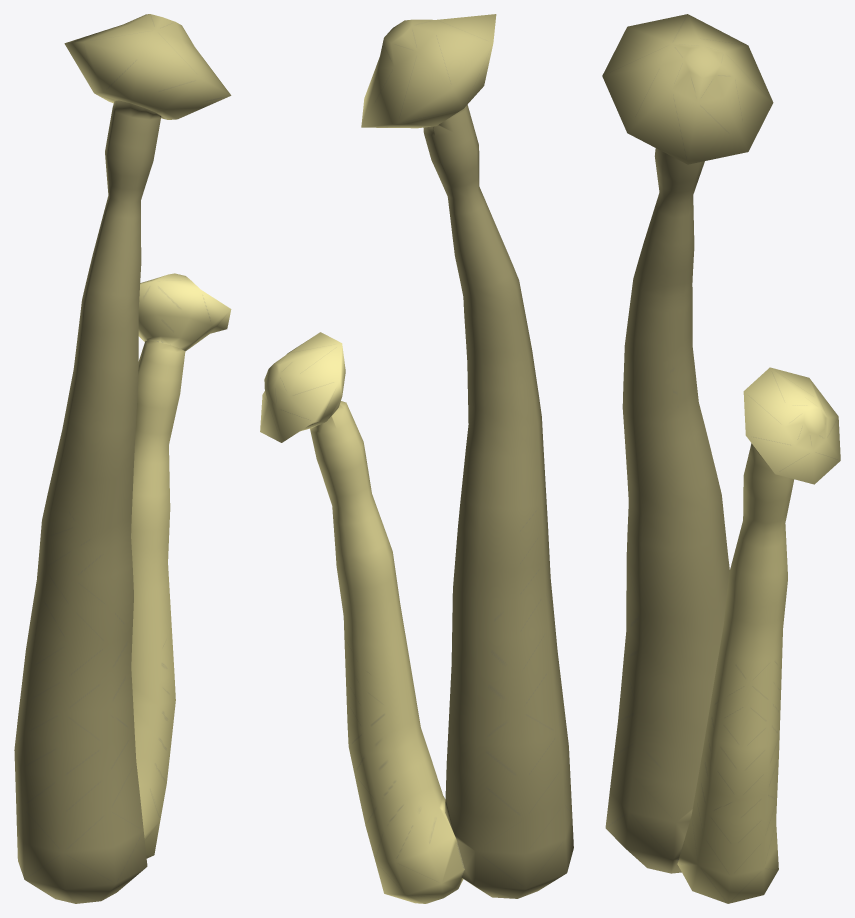
The model's file is desert-plant-2.fbx.
3 renders of one model, left to right at view 1: azimuth 30°, elevation 25°; view 2: azimuth 150°, elevation 25°; view 3: azimuth 270°, elevation 25°, orthographic.
Parts seen in each view (by area): view 1: unamed; view 2: unamed; view 3: unamed.
Boxes of the visible parts, bbox=[...] form: unamed: bbox=[14, 14, 231, 903]; unamed: bbox=[260, 14, 573, 903]; unamed: bbox=[602, 14, 840, 903].
Size of the model in its own units: 0.2251 by 0.7263 by 0.1819.
Materials: 1 (1 with a texture image).
